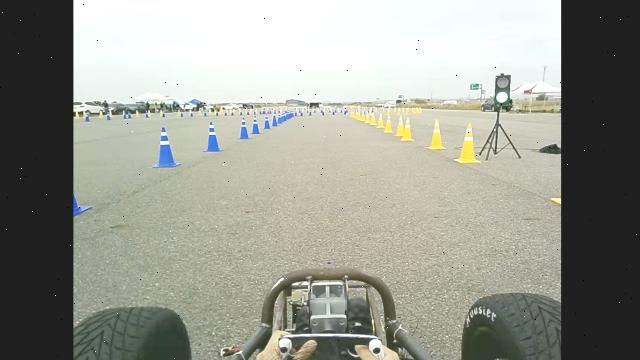blue cone: (152, 126, 181, 168), (202, 120, 223, 152), (237, 116, 251, 140), (252, 115, 262, 134), (263, 118, 271, 129), (271, 115, 278, 127)
yellow cone: (453, 122, 481, 164), (426, 119, 446, 150), (400, 116, 414, 142), (394, 116, 404, 137), (383, 116, 394, 133), (376, 113, 384, 128), (369, 114, 377, 126), (364, 113, 371, 124)
